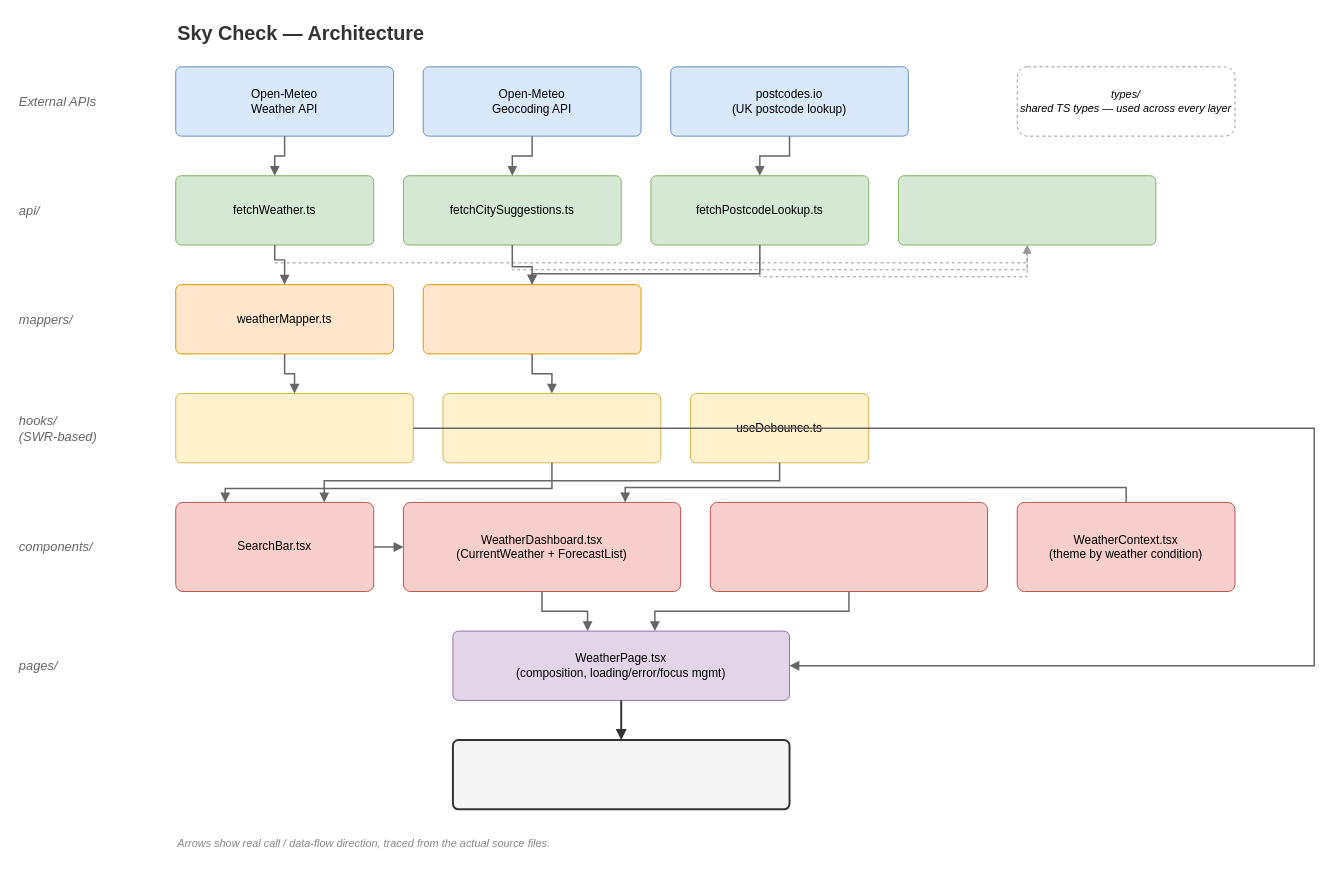
This 1339x875 diagram has some shape labels left out. Each missing label, with the box of its shape:
App.tsx (ErrorBoundary — react-error-boundary): (451, 739, 790, 810)
ErrorState / Loader / Overlay (+ StatusCard): (709, 501, 988, 592)
fetchJson.ts (shared — throws plain Error): (897, 175, 1156, 245)
locationMapper.ts: (422, 284, 641, 354)
useLocationSearch.ts: (442, 393, 661, 463)
useWeather.ts (15-min refresh, retry): (175, 393, 413, 463)
